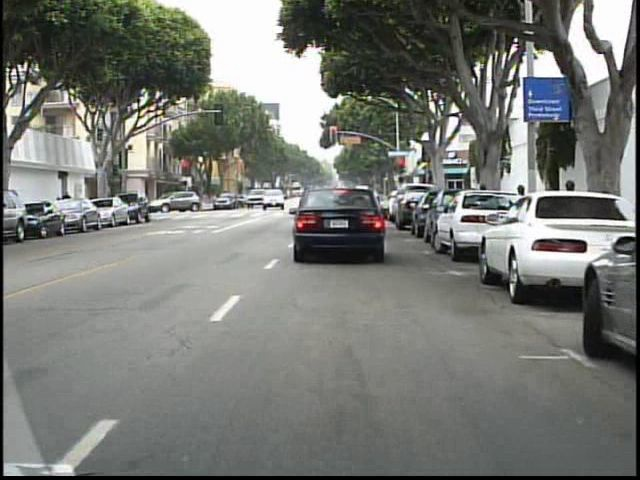person: (58, 186, 76, 224), (160, 190, 175, 217)
